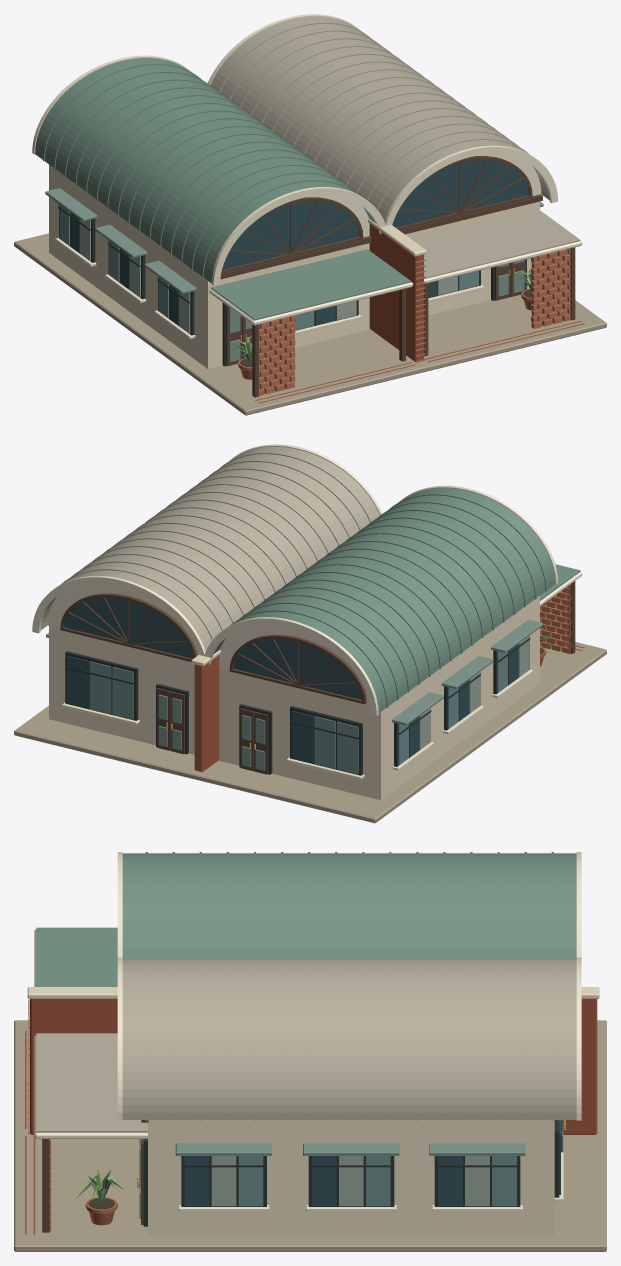
3 renders of one model, top to bottom at view 1: azimuth 30°, elevation 25°; view 2: azimuth 150°, elevation 25°; view 3: azimuth 270°, elevation 25°, orthographic. The views are drawn at different scales.
Parts seen in each view (by area): view 1: Vaulted roofs, Mirror plan semi detached, Radial fanlights, Casement assemblies, Clay privacy screens, Brick party spine, Entrance joinery, Monsoon sunhoods, Paving inlays, Potted pandan; view 2: Vaulted roofs, Mirror plan semi detached, Casement assemblies, Radial fanlights, Entrance joinery, Brick party spine, Monsoon sunhoods, Clay privacy screens; view 3: Vaulted roofs, Mirror plan semi detached, Casement assemblies, Brick party spine, Monsoon sunhoods, Potted pandan, Entrance joinery, Paving inlays.
Boxes of the visible parts, x1,y1,x2,y2 form: Vaulted roofs: (32, 14, 558, 285); Mirror plan semi detached: (14, 164, 606, 415); Radial fanlights: (221, 156, 532, 273); Casement assemblies: (55, 204, 483, 339); Clay privacy screens: (259, 248, 570, 395); Brick party spine: (368, 219, 426, 362); Entrance joinery: (222, 259, 526, 366); Monsoon sunhoods: (45, 188, 543, 293); Paving inlays: (255, 321, 584, 403); Potted pandan: (230, 269, 531, 379); Vaulted roofs: (32, 444, 558, 715); Mirror plan semi detached: (14, 564, 606, 823); Casement assemblies: (62, 636, 532, 779); Radial fanlights: (60, 593, 366, 704); Entrance joinery: (156, 684, 272, 774); Brick party spine: (191, 650, 220, 772); Monsoon sunhoods: (46, 619, 542, 725); Clay privacy screens: (540, 584, 571, 653); Vaulted roofs: (117, 852, 581, 1120); Mirror plan semi detached: (14, 927, 606, 1251); Casement assemblies: (178, 1120, 563, 1211); Brick party spine: (27, 987, 599, 1134); Monsoon sunhoods: (175, 1143, 525, 1155); Potted pandan: (73, 1169, 129, 1225); Entrance joinery: (137, 1120, 565, 1226); Paving inlays: (25, 1030, 35, 1234).
Size of the model in its own units: 13.74 by 6.22 by 15.23.
